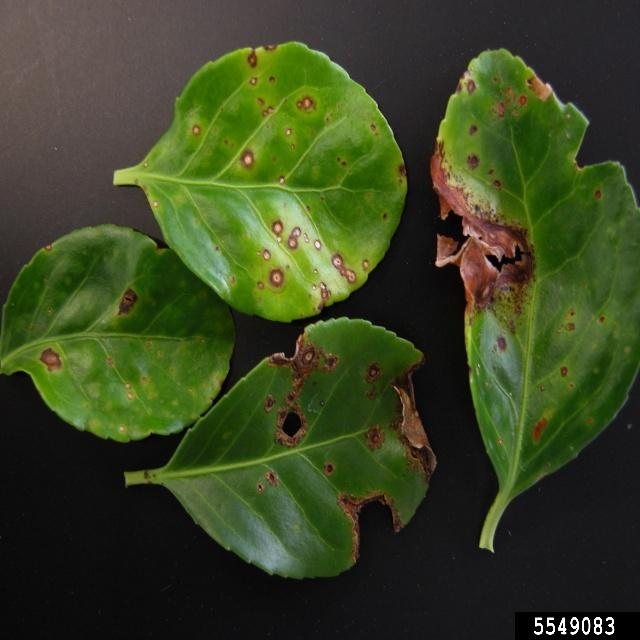leaf_spot: (427, 38, 640, 558), (109, 37, 416, 325), (150, 314, 448, 604), (0, 225, 243, 447)
